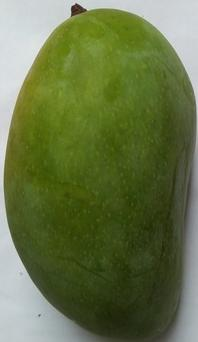Unripe: (1, 1, 198, 342)
